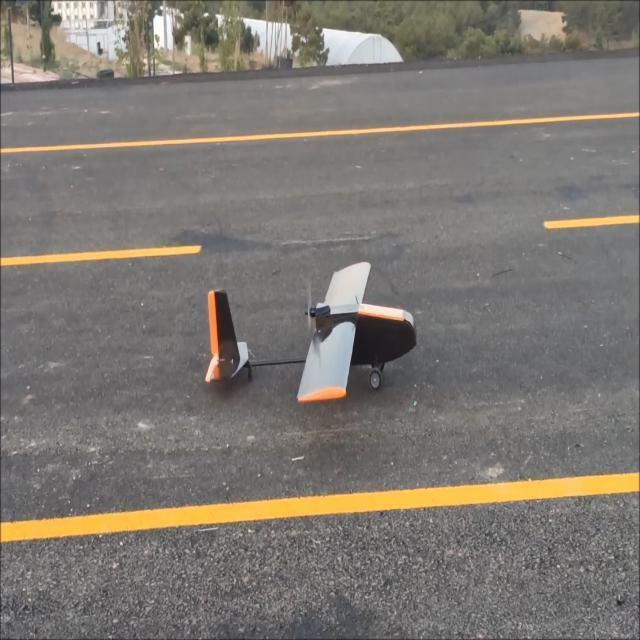iha: (183, 244, 431, 407)
